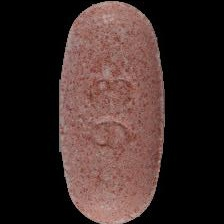0093-7212: (0, 0, 224, 224)
